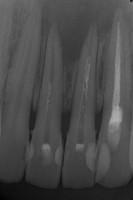Furcation Involvement: (40, 0, 120, 66)
